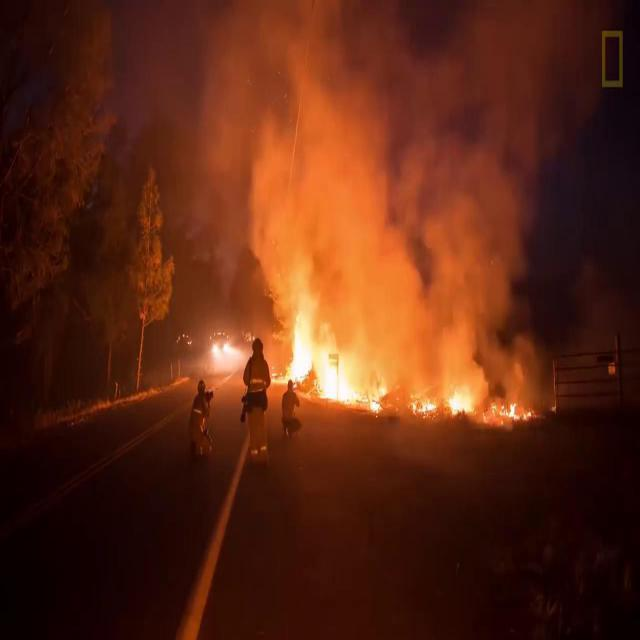Fire: (276, 315, 388, 413), (501, 396, 534, 424), (447, 388, 475, 419), (412, 394, 436, 418)
